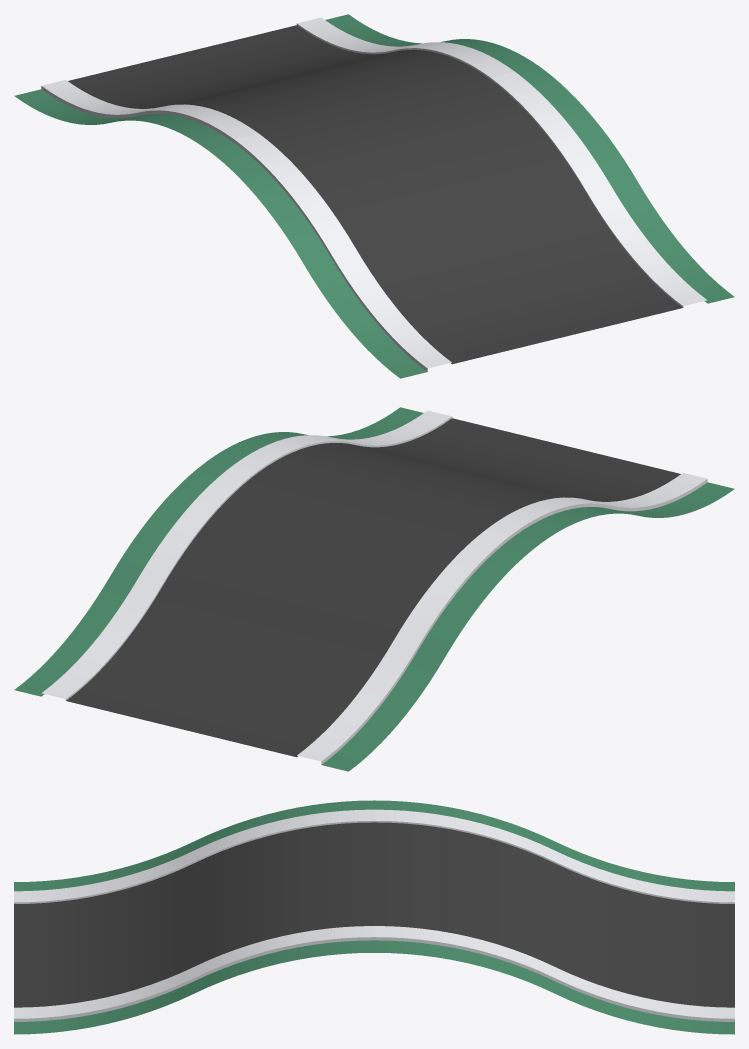
File: road-straight-long-bump.glb
The picture shows the model from 3 angles, top to bottom: view 1: azimuth 30°, elevation 25°; view 2: azimuth 150°, elevation 25°; view 3: azimuth 270°, elevation 25°; orthographic projection. The views are drawn at different scales.
Visible parts, largest first — view 1: roadStraightLongBump(Clone); view 2: roadStraightLongBump(Clone); view 3: roadStraightLongBump(Clone).
Part boxes in pixels (x1,y1,x2,y2): roadStraightLongBump(Clone): (14, 14, 734, 378); roadStraightLongBump(Clone): (14, 407, 734, 771); roadStraightLongBump(Clone): (14, 800, 734, 1034).
Size of the model in its own units: 1 by 0.26 by 2.
